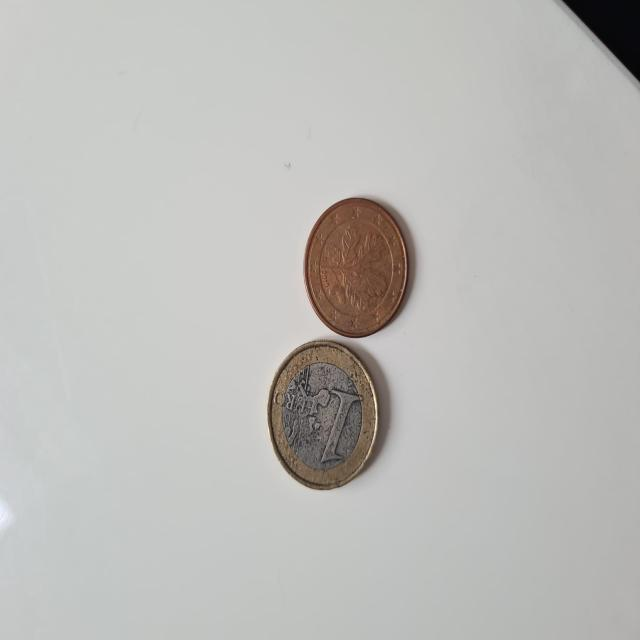1e: (265, 342, 384, 492)
2c: (304, 194, 414, 336)
